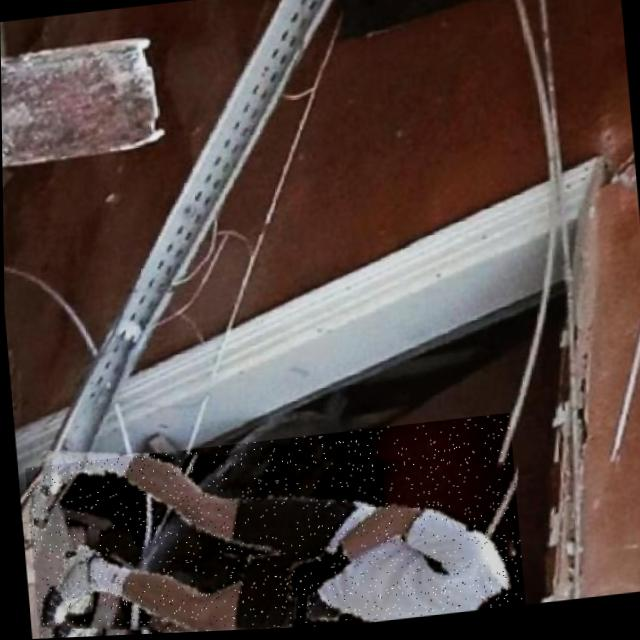Person in Rubble: (22, 417, 522, 639)
